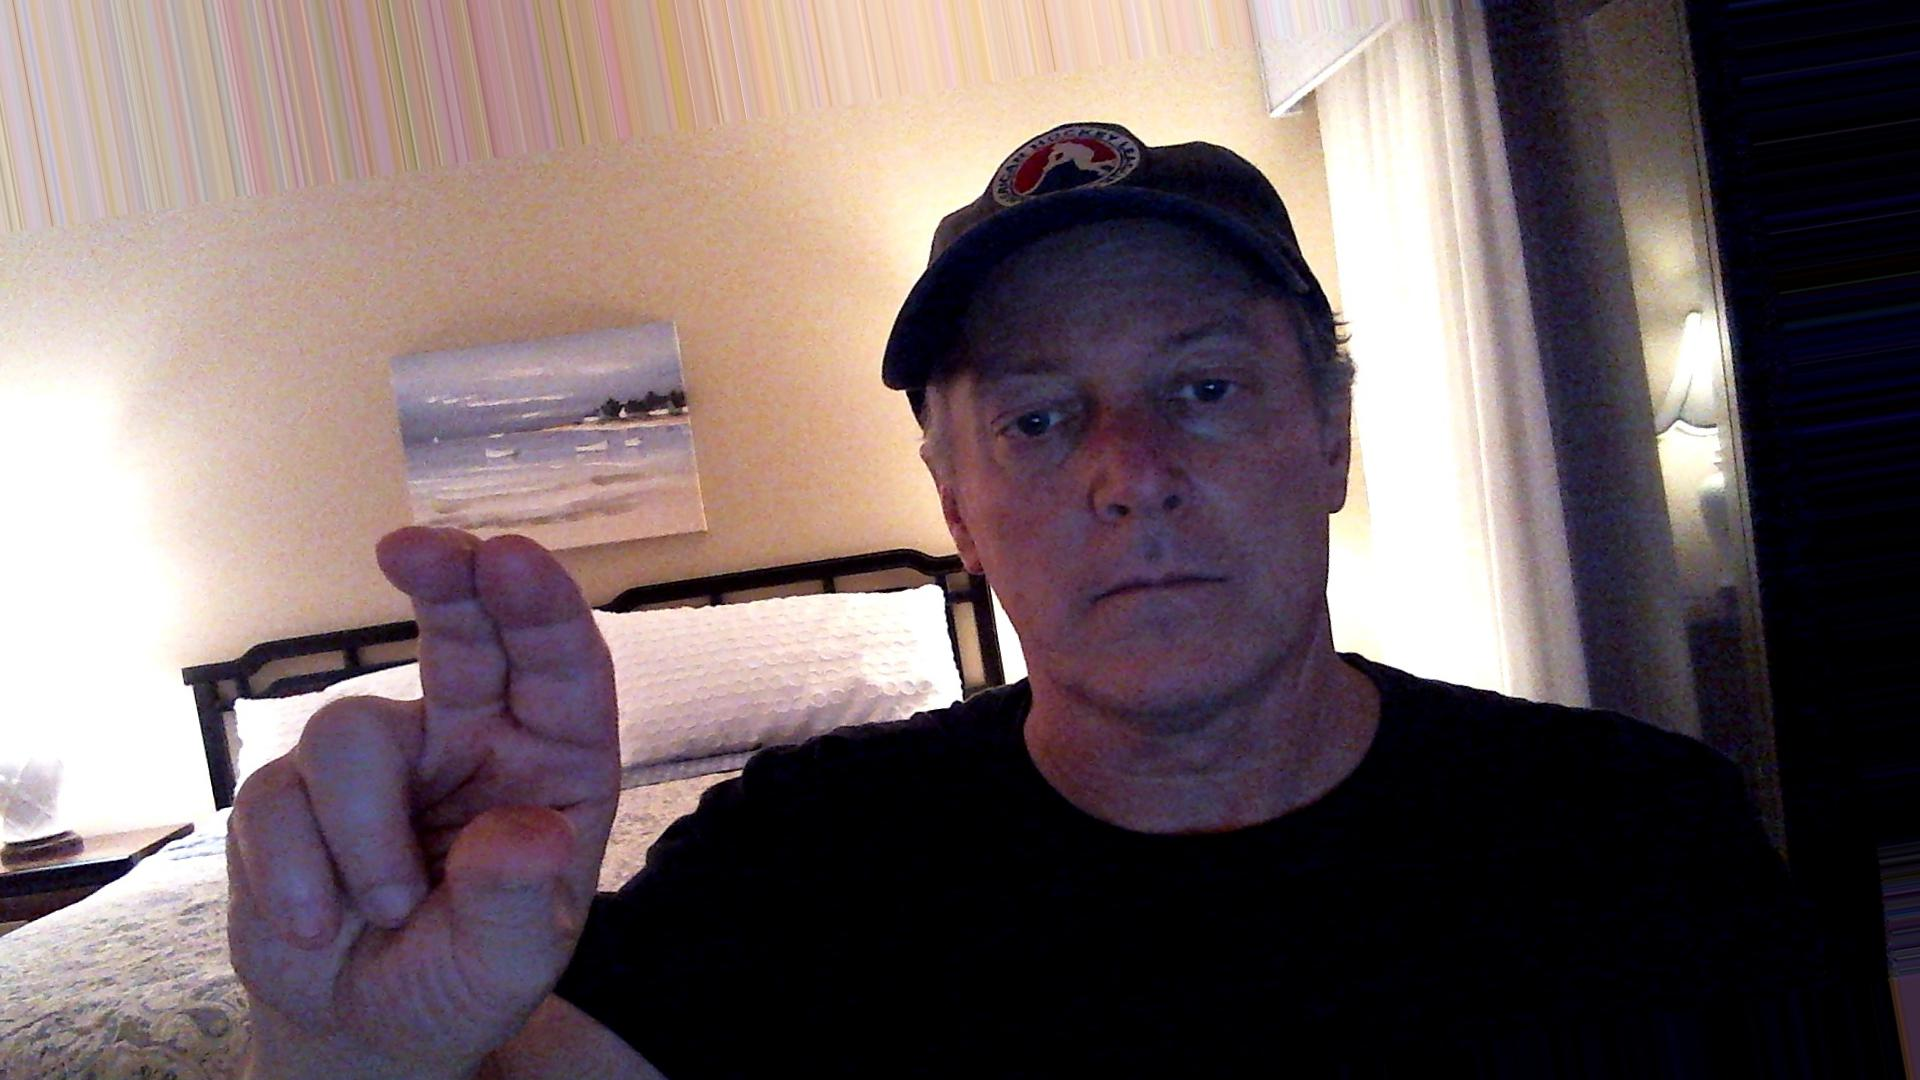No: (200, 508, 653, 1062)
